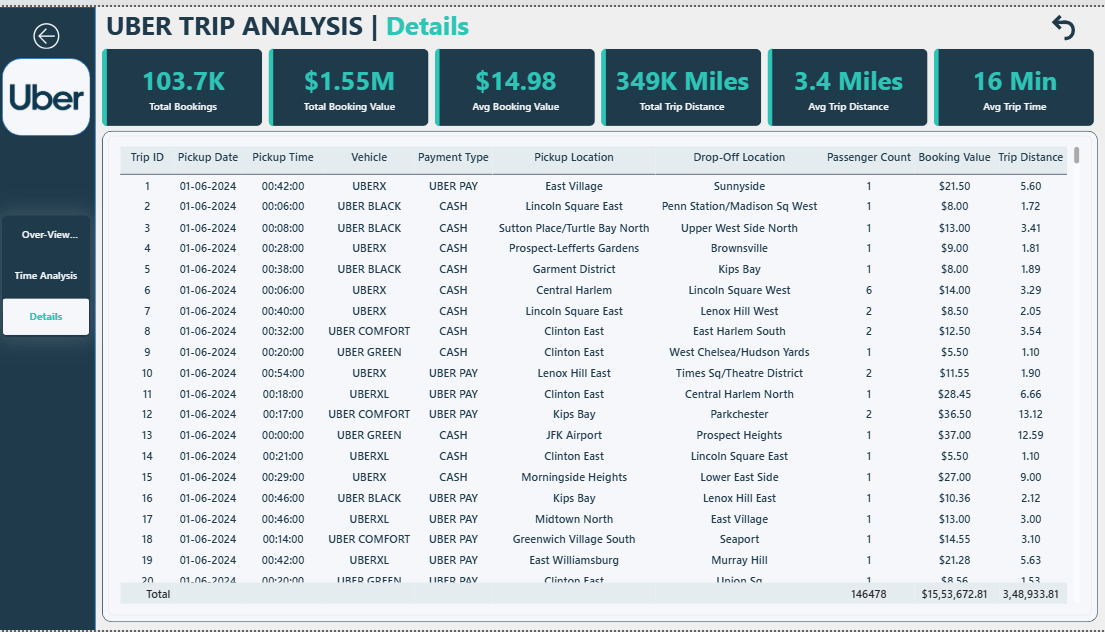

What the dashboard file says about the page in this screenshot:
{"tool":"powerbi","page":{"name":"Details","canvas":[1600,900],"ordinal":2},"visuals":[{"type":"shape","box":[152.4,178.8,1436.8,709.1],"z":0},{"type":"shape","box":[0,0,142,900.3],"z":1000},{"type":"textbox","box":[157,0,659.3,59.1],"z":2000},{"type":"cardVisual","fields":{"Data":["Measure.Total Bookings","Measure.Total Booking Amount","Measure.Avg Booking Amount","Measure.Total Trip Distance","Measure.Avg Trip Distance","Measure.Avg Trip Time"]},"box":[152.4,59.1,1436.8,113.5],"z":3000},{"type":"tableEx","fields":{"Values":["fact_ubertrip.TripID","fact_ubertrip.PickupDate","fact_ubertrip.Pickup Time","fact_ubertrip.Vehicle","fact_ubertrip.PaymentType","Measure.Pickup Location","Measure.Drop-Off Location","Sum(fact_ubertrip.PassengerCount)","Measure.Total Booking Value","Measure.Total Trip Distance."]},"box":[160.2,186.6,1419,692],"z":4000},{"type":"actionButton","box":[19.8,9,102.8,59.5],"z":5000},{"type":"actionButton","box":[1489.7,0,99.2,59.5],"z":6000},{"type":"shape","box":[7.8,73.1,127.5,112],"z":7000},{"type":"image","box":[0,68.4,141.5,116.6],"z":8000},{"type":"pageNavigator","box":[7.8,301.7,127.5,174.2],"z":9000}]}

Visuals, with their boxes on the page's 1600x900 design canvas (x1, y1, x2, y2). These are canvas units, not pixel positions in the 1105x632 screenshot, which may show the page scaled, cropped or inside an application window:
shape: x1=152, y1=179, x2=1589, y2=888
shape: x1=0, y1=0, x2=142, y2=900
textbox: x1=157, y1=0, x2=816, y2=59
cardVisual - Measure.Total Bookings x Measure.Total Booking Amount: x1=152, y1=59, x2=1589, y2=173
tableEx - fact_ubertrip.TripID x fact_ubertrip.PickupDate: x1=160, y1=187, x2=1579, y2=879
actionButton: x1=20, y1=9, x2=123, y2=68
actionButton: x1=1490, y1=0, x2=1589, y2=60
shape: x1=8, y1=73, x2=135, y2=185
image: x1=0, y1=68, x2=142, y2=185
pageNavigator: x1=8, y1=302, x2=135, y2=476
